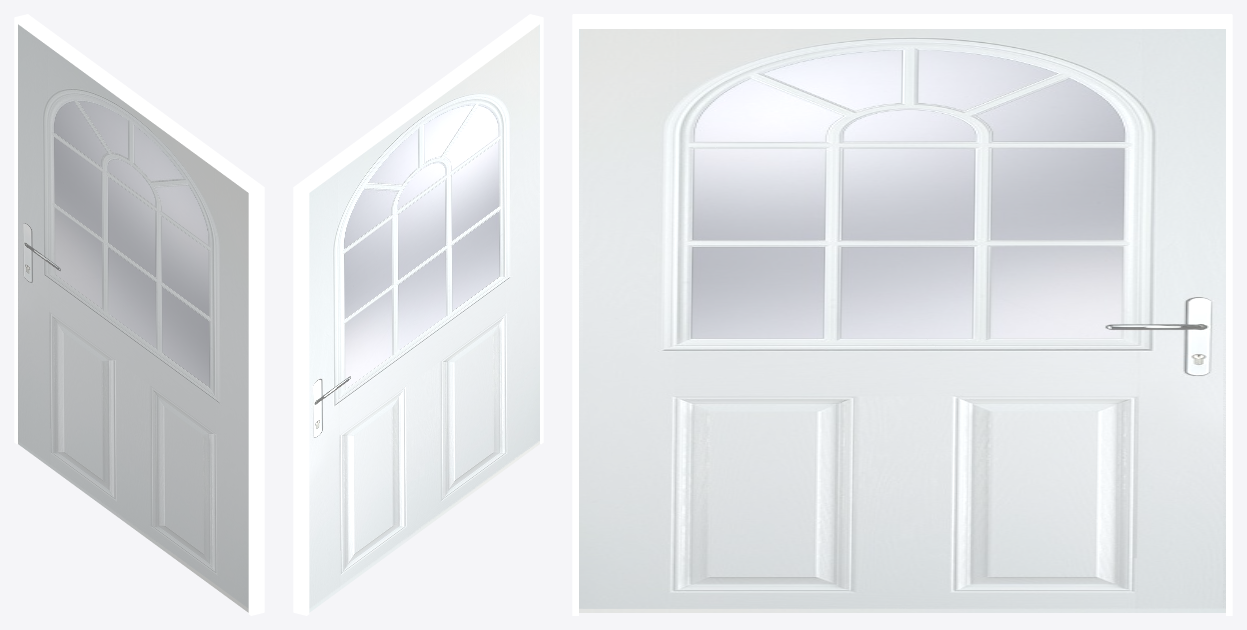
Rendered from 11lite-walk-door.9dde7899.gltf.
The picture shows the model from 3 angles, left to right: view 1: azimuth 30°, elevation 25°; view 2: azimuth 150°, elevation 25°; view 3: azimuth 270°, elevation 25°; orthographic projection. The views are drawn at different scales.
Parts seen in each view (by area): view 1: doors, trims; view 2: doors, trims; view 3: doors, trims.
Part boxes in pixels (box(x1,y1,x2,y2)): doors: box(18, 24, 248, 612); trims: box(14, 14, 264, 615); doors: box(309, 24, 539, 612); trims: box(293, 14, 543, 615); doors: box(579, 29, 1225, 612); trims: box(572, 14, 1232, 615).
Bounding box in the file's own units: 0.2 × 6.01 × 6.07.
Materials: 2 (1 with a texture image).
